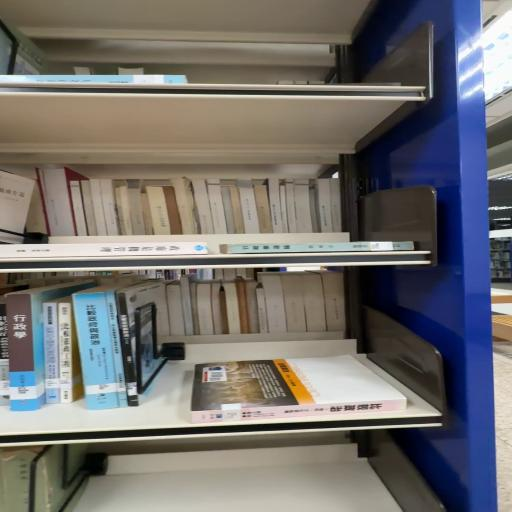flat: (191, 356, 408, 424), (1, 242, 210, 262), (221, 242, 416, 255)
